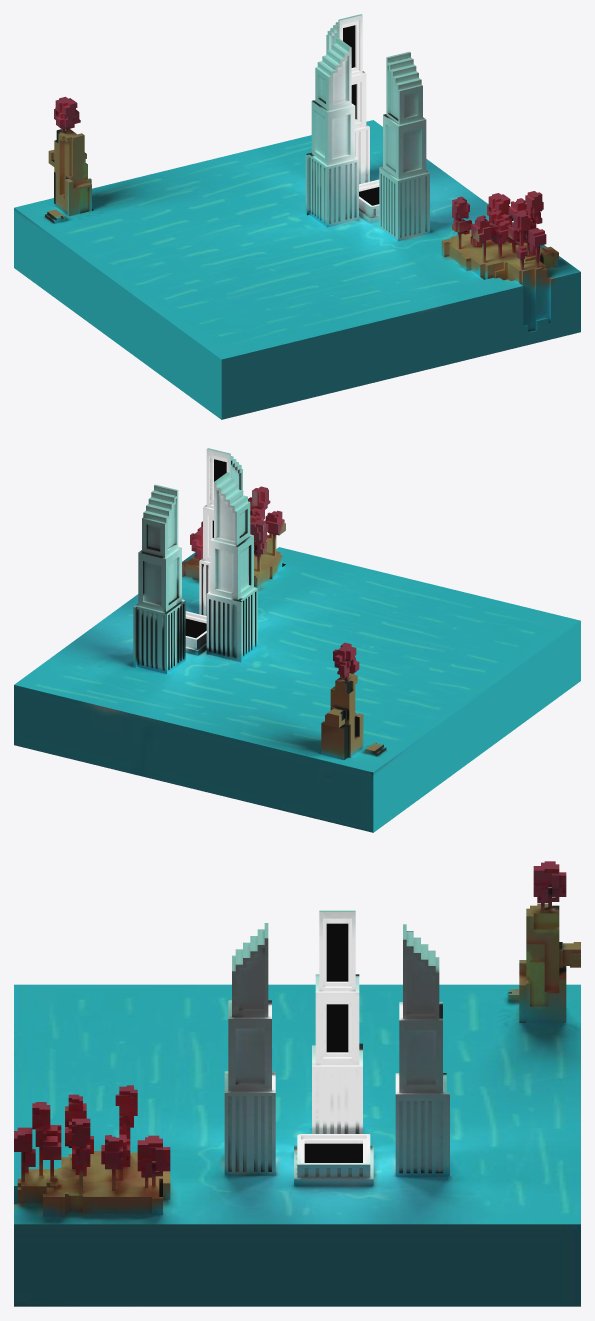
Rendered from user_upload_com.glb.
3 views of the same model, one above another, from view 1: azimuth 30°, elevation 25°; view 2: azimuth 150°, elevation 25°; view 3: azimuth 270°, elevation 25° (orthographic). The views are drawn at different scales.
Parts seen in each view (by area): view 1: user_upload; view 2: user_upload; view 3: user_upload.
Part boxes in pixels (x1=…): user_upload: x1=14, y1=14, x2=580, y2=419; user_upload: x1=14, y1=448, x2=580, y2=832; user_upload: x1=14, y1=861, x2=580, y2=1306.
Bounding box in the file's own units: 156 × 96 × 156.
1 material, 1 textured.
